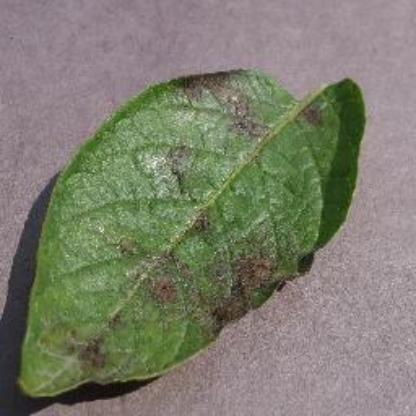Late-Blight: (15, 60, 371, 404)
